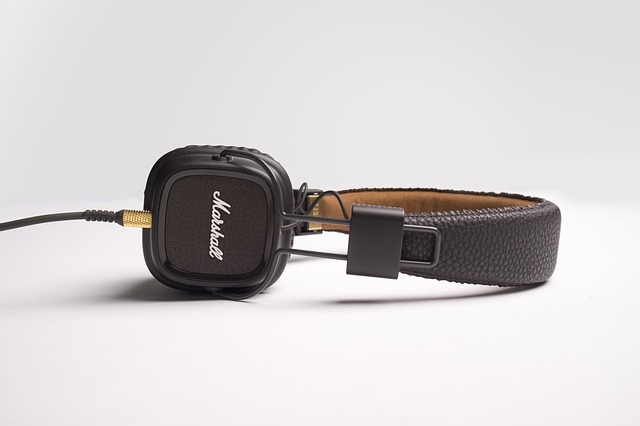headphones: (142, 146, 561, 300)
